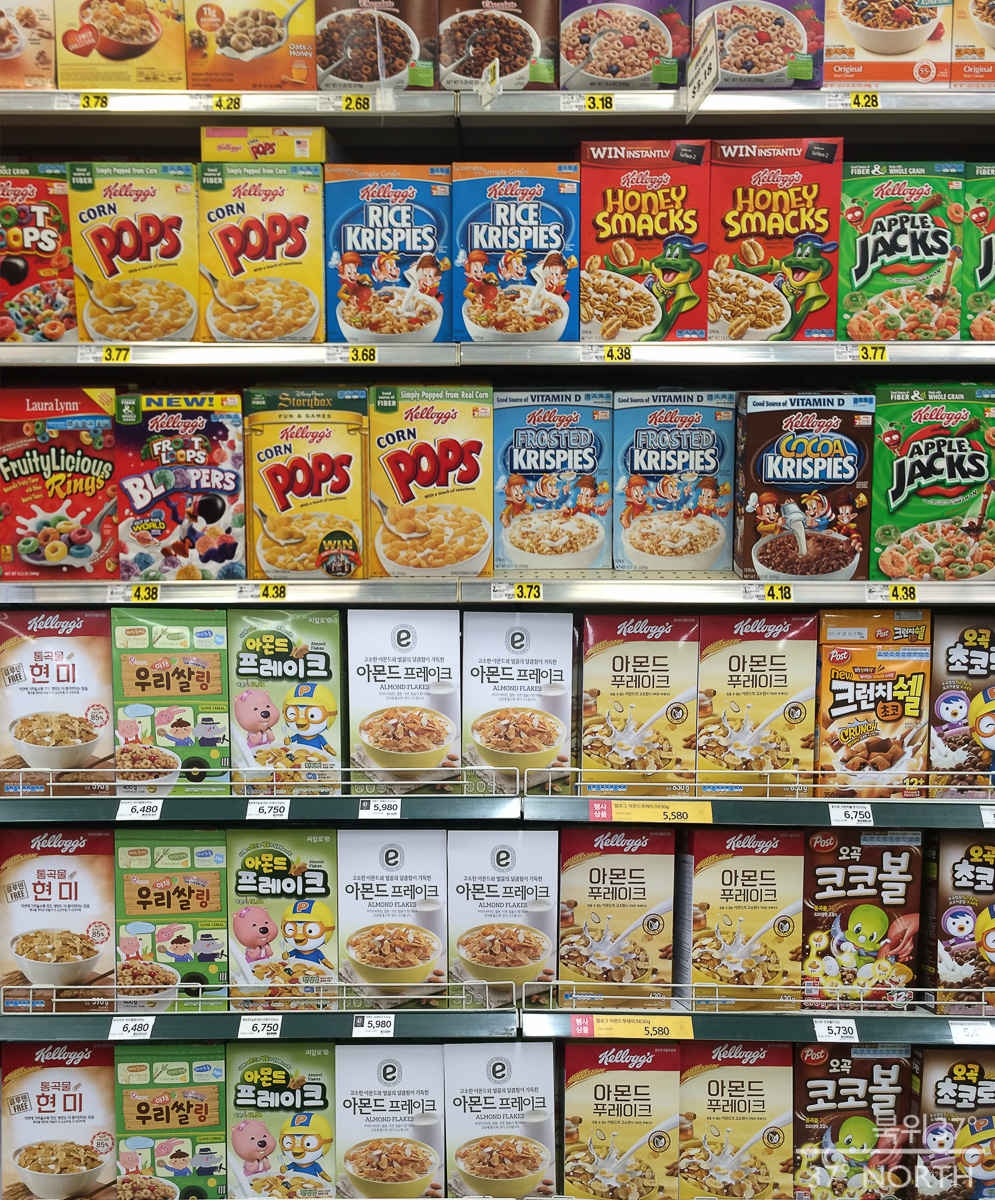cereal: (709, 141, 837, 341), (585, 142, 708, 344), (65, 168, 197, 350), (747, 394, 875, 577), (341, 608, 466, 793), (452, 161, 578, 342), (319, 163, 447, 341), (371, 392, 494, 577), (1, 387, 115, 582), (118, 394, 240, 575), (697, 613, 815, 798), (495, 392, 617, 570), (876, 391, 994, 575), (805, 834, 927, 1011), (578, 612, 695, 796), (202, 164, 322, 342), (108, 608, 224, 791), (618, 389, 733, 572), (462, 610, 575, 794), (842, 165, 959, 342), (248, 396, 361, 577), (560, 827, 676, 1003), (691, 836, 809, 1008), (226, 611, 341, 787), (817, 617, 927, 796), (447, 832, 562, 1001), (2, 612, 109, 793), (1, 831, 114, 1002), (338, 834, 451, 1003), (564, 1050, 691, 1200), (115, 840, 227, 1005), (231, 835, 338, 1007), (798, 1048, 919, 1200), (3, 1050, 119, 1200), (684, 1044, 795, 1200), (443, 1046, 557, 1196), (336, 1048, 443, 1200), (115, 1055, 226, 1200), (233, 1051, 337, 1197), (1, 167, 62, 342)
